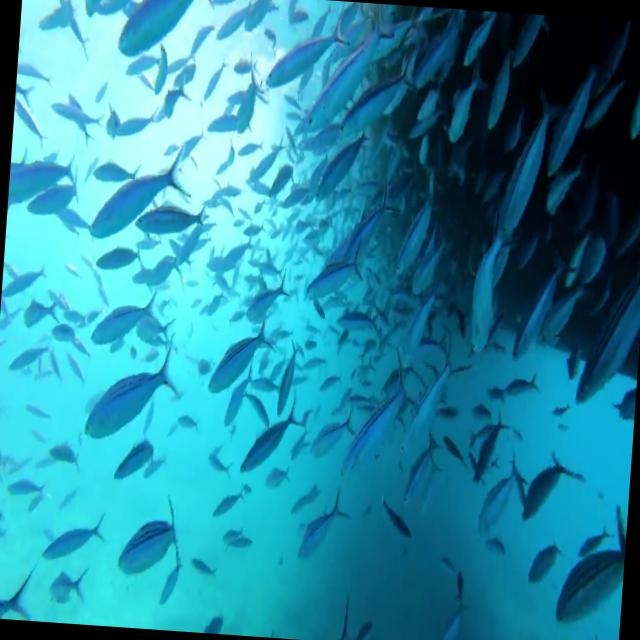fish: (302, 0, 396, 141), (498, 82, 574, 236), (341, 339, 416, 492), (88, 145, 190, 246), (554, 507, 628, 632), (86, 343, 177, 442), (266, 4, 360, 95), (336, 54, 416, 144), (400, 343, 460, 458), (116, 493, 191, 576), (206, 316, 276, 392), (312, 120, 368, 211), (240, 398, 305, 474), (8, 154, 80, 214), (304, 234, 370, 298), (522, 445, 573, 520), (297, 490, 347, 563), (92, 288, 156, 345), (41, 508, 107, 562), (247, 268, 293, 322)
